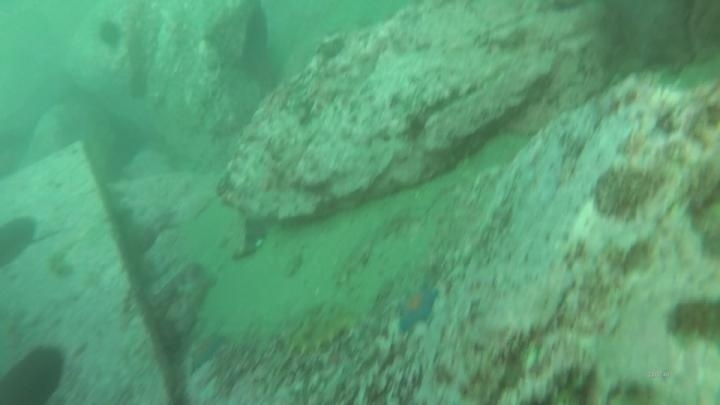echinus: (95, 18, 125, 52)
holothurian: (280, 304, 362, 359)
starfish: (393, 281, 441, 335), (183, 327, 229, 376)
